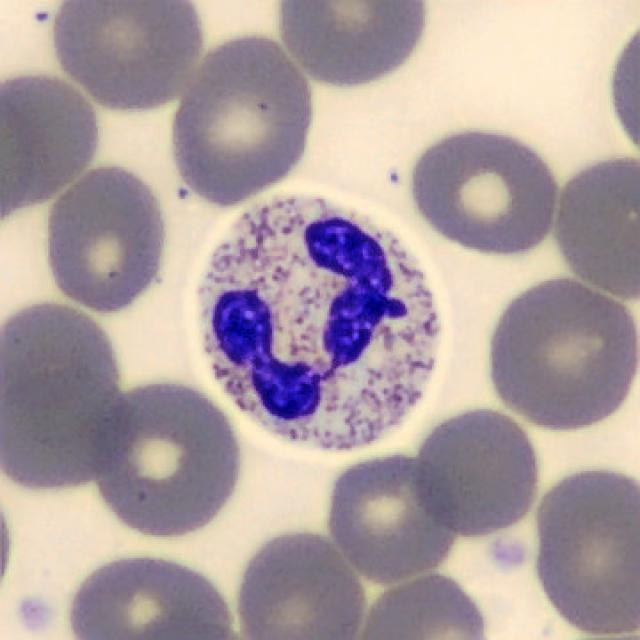Neutrofilo segmentado: (196, 185, 446, 453)
